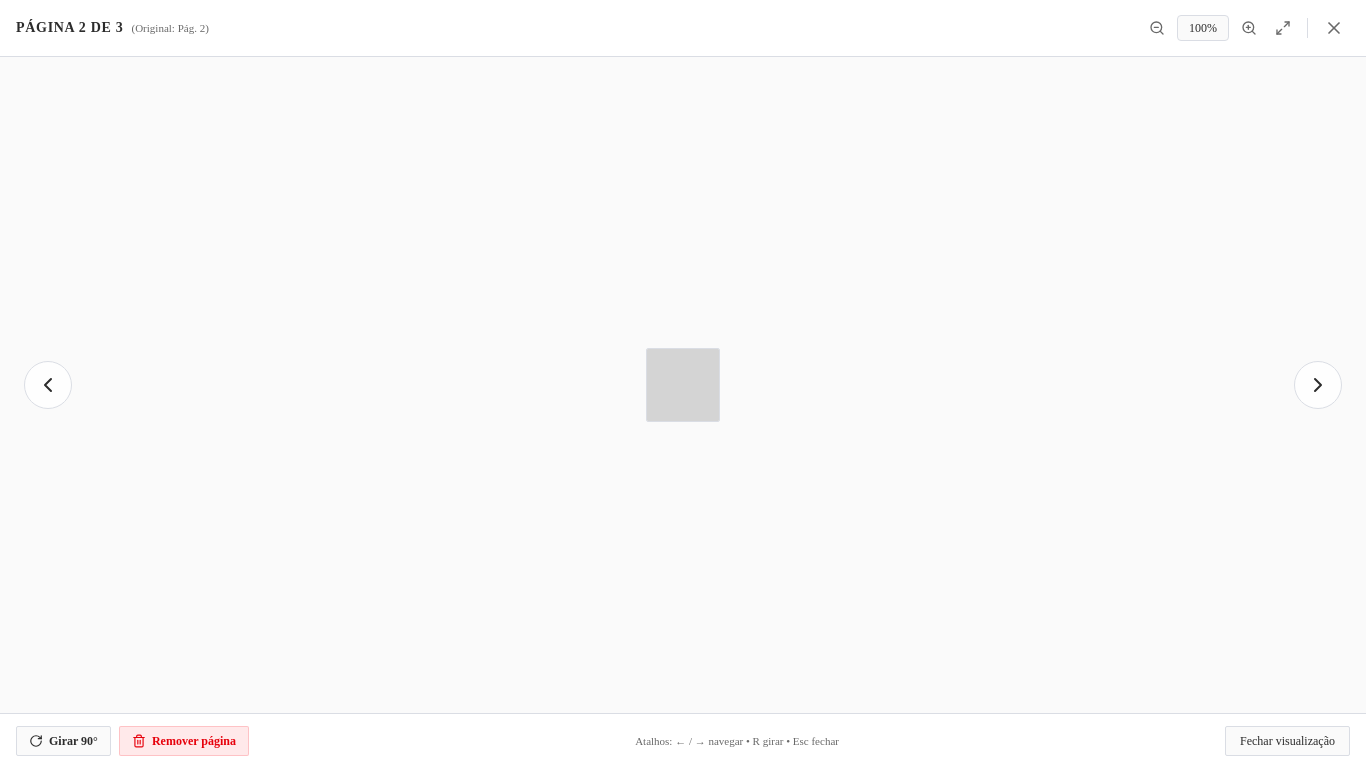
Scenario: Organize PDF Page Zoom & Preview › PagePreviewModal › renders page details and handles zoom controls
This screenshot has width=1366, height=768.
Check: the text "Página 2 de 3" is shown, box 16,18 -> 124,38
Check: the text "(Original: Pág. 2)" is shown, box 132,19 -> 209,37
Click the button titled "Aumentar zoom": [1249, 28] box 1235,14 -> 1263,42
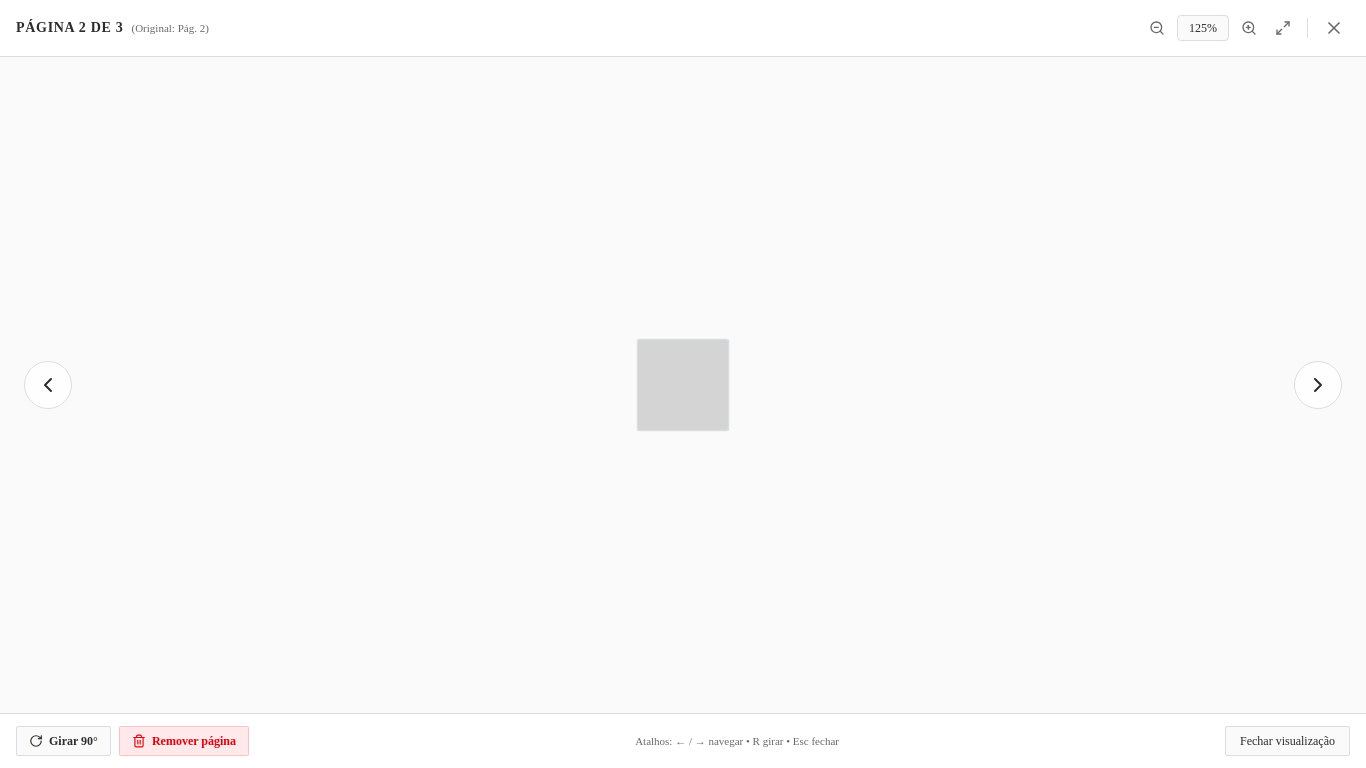
Check: the button "125%" is shown, box 1177,15 -> 1229,41
Click the button titled "Diminuir zoom": [1157, 28] box 1143,14 -> 1171,42
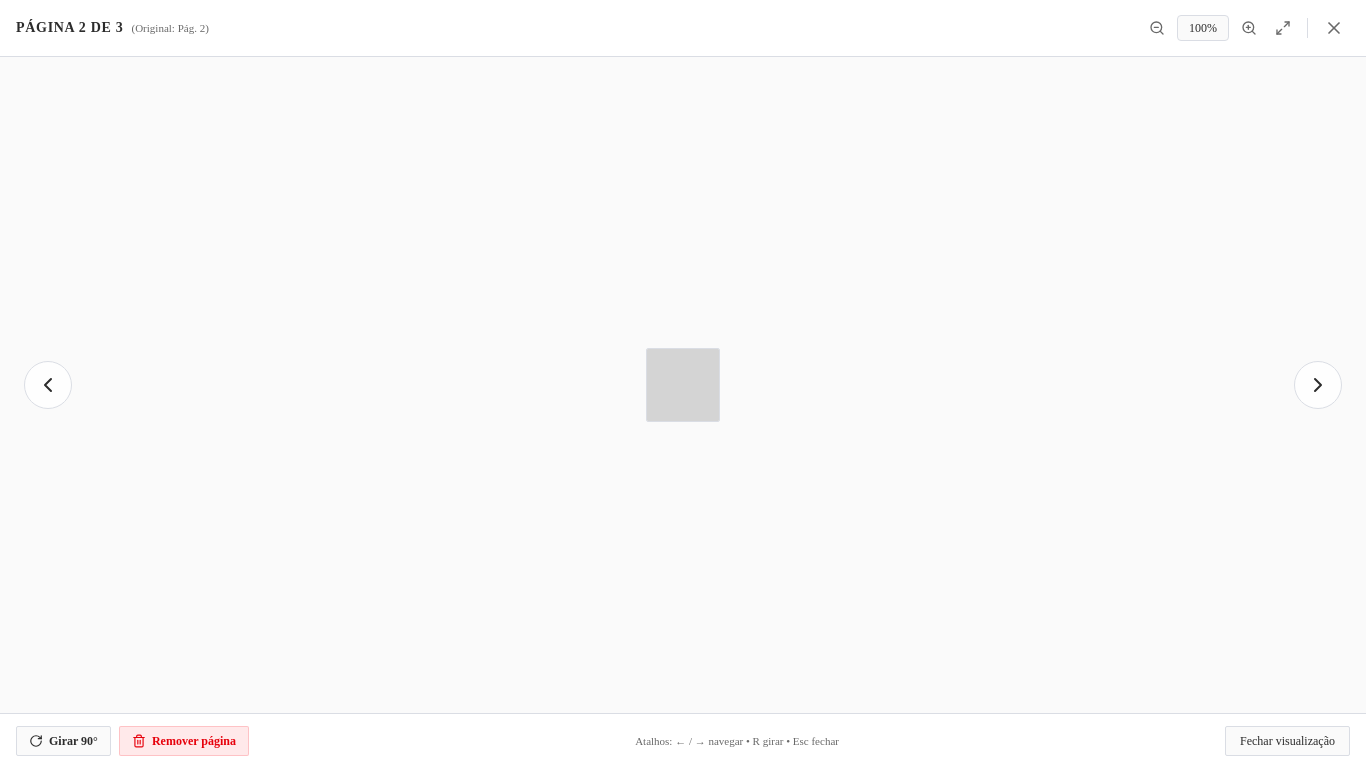
Check: the button "100%" is shown, box 1177,15 -> 1229,41
